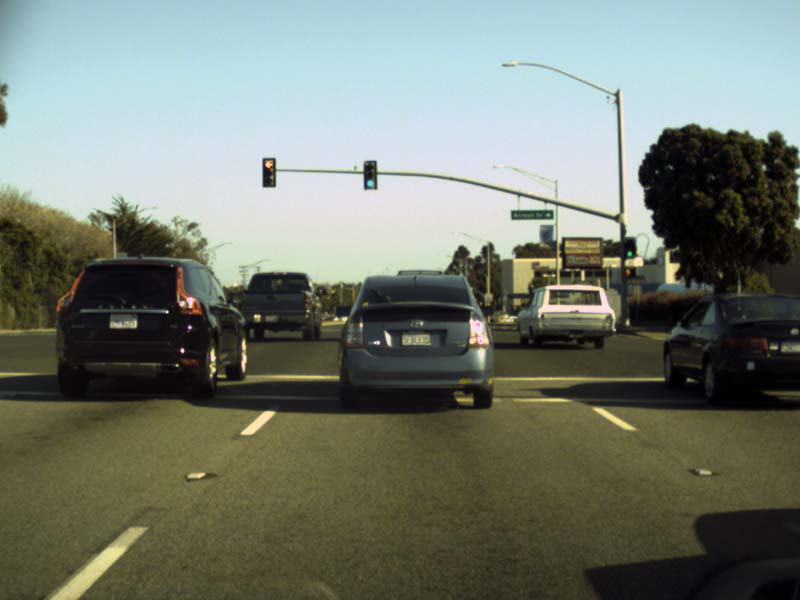Green: (363, 159, 376, 190), (624, 239, 635, 258)
Red: (262, 157, 275, 187)
